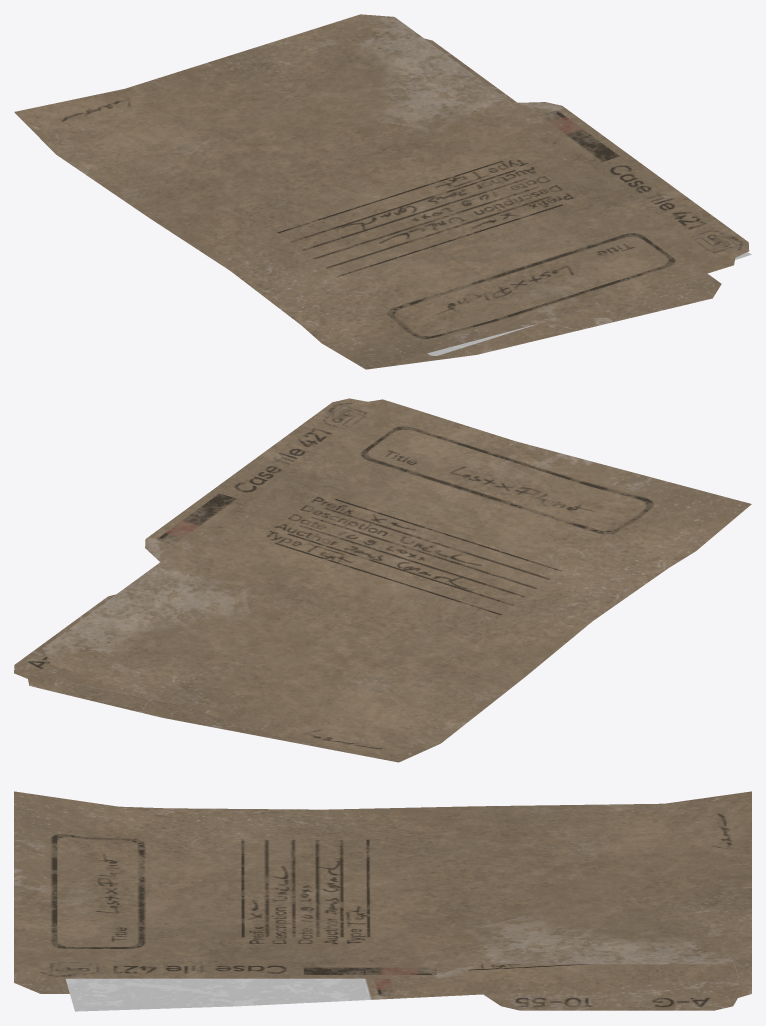
Rendered from SM_File_Pocket1.fbx.
The picture shows the model from 3 angles, top to bottom: view 1: azimuth 30°, elevation 25°; view 2: azimuth 150°, elevation 25°; view 3: azimuth 270°, elevation 25°; orthographic projection. The views are drawn at different scales.
Visible parts, largest first — view 1: SM_File_Pocket1_LOD0; view 2: SM_File_Pocket1_LOD0; view 3: SM_File_Pocket1_LOD0.
Part boxes in pixels (<box>): SM_File_Pocket1_LOD0: <box>14,14,751,369</box>; SM_File_Pocket1_LOD0: <box>14,398,751,762</box>; SM_File_Pocket1_LOD0: <box>14,791,751,1011</box>.
Size of the model in its own units: 32.19 by 47.29 by 2.24.
1 material, 1 textured.
